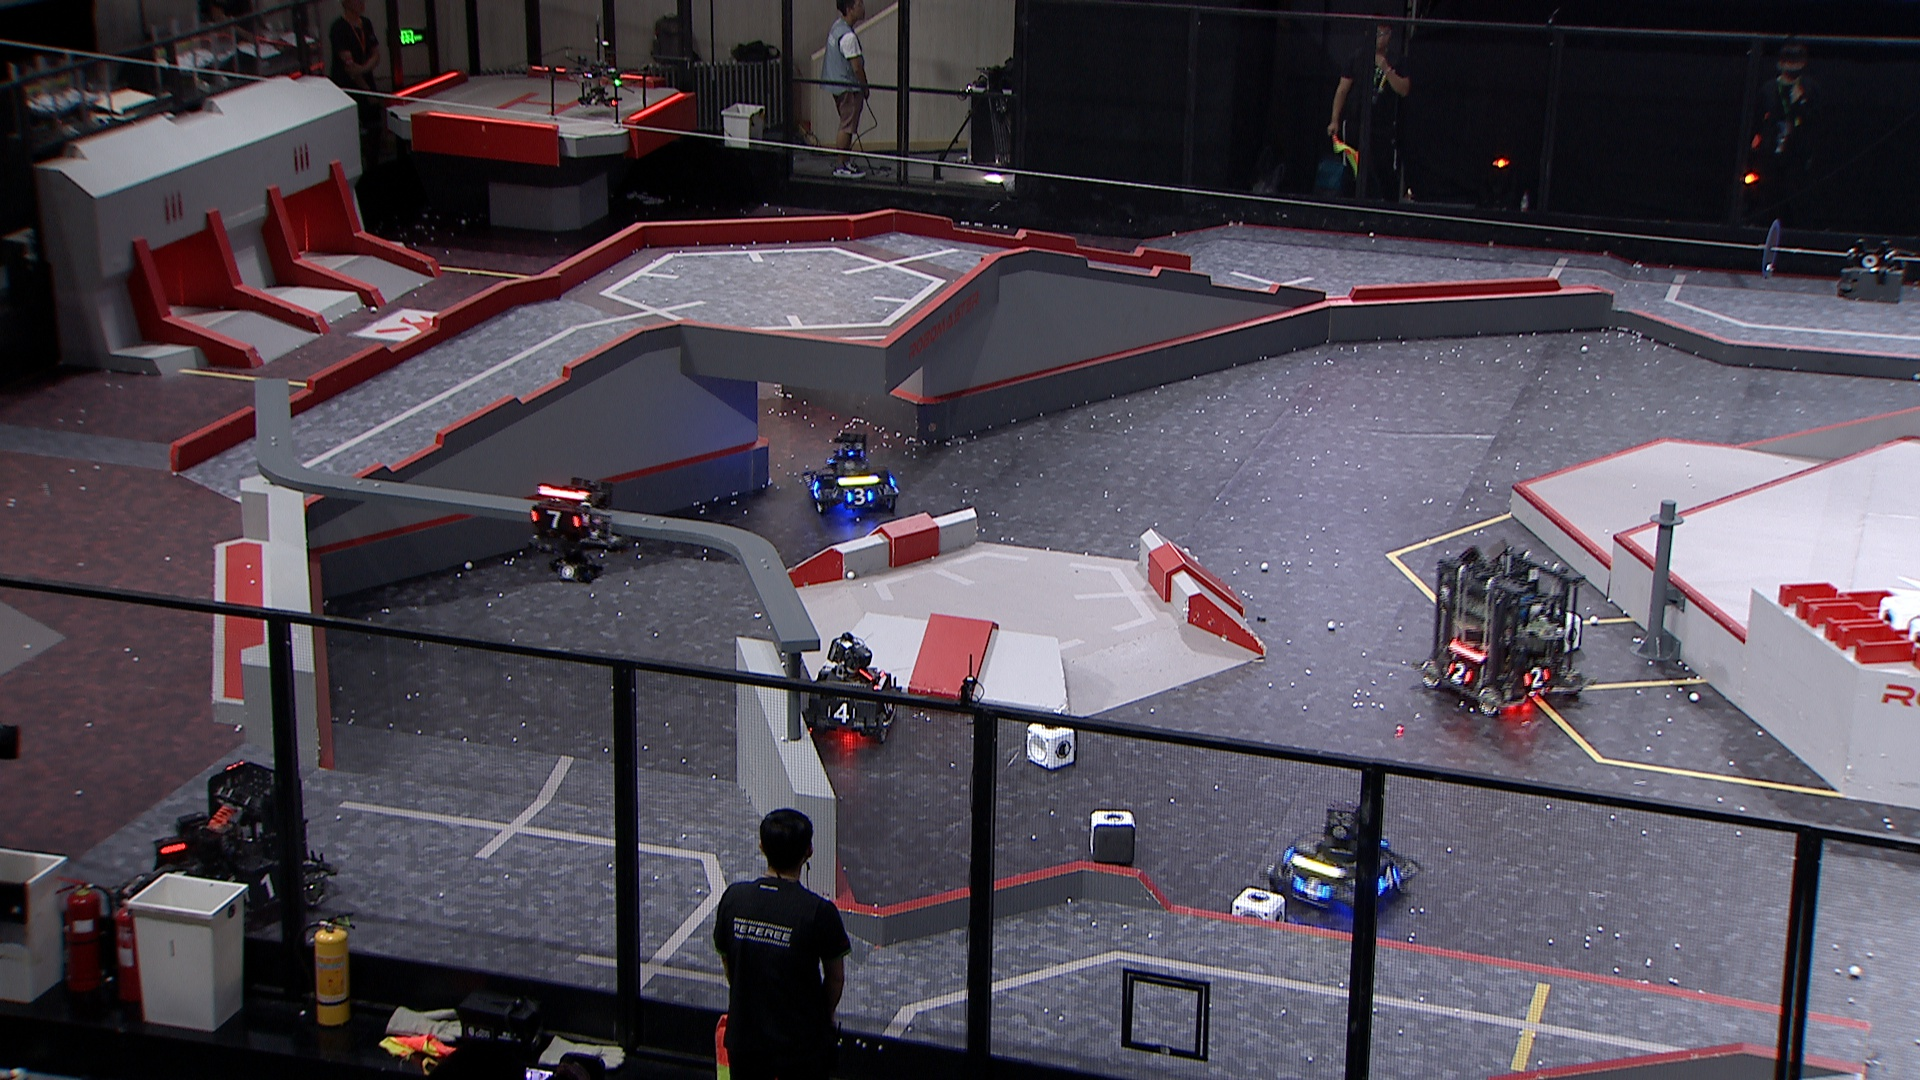armor: (527, 505, 582, 531), (1295, 874, 1332, 906), (243, 874, 278, 903), (825, 700, 858, 727), (1371, 865, 1400, 894), (1447, 659, 1476, 687), (1523, 665, 1552, 688), (845, 488, 876, 505), (806, 473, 822, 495)
car: (117, 757, 338, 942), (1414, 542, 1596, 716), (1263, 798, 1424, 918), (800, 632, 901, 745), (802, 433, 899, 518)
watcher: (527, 475, 621, 584)
